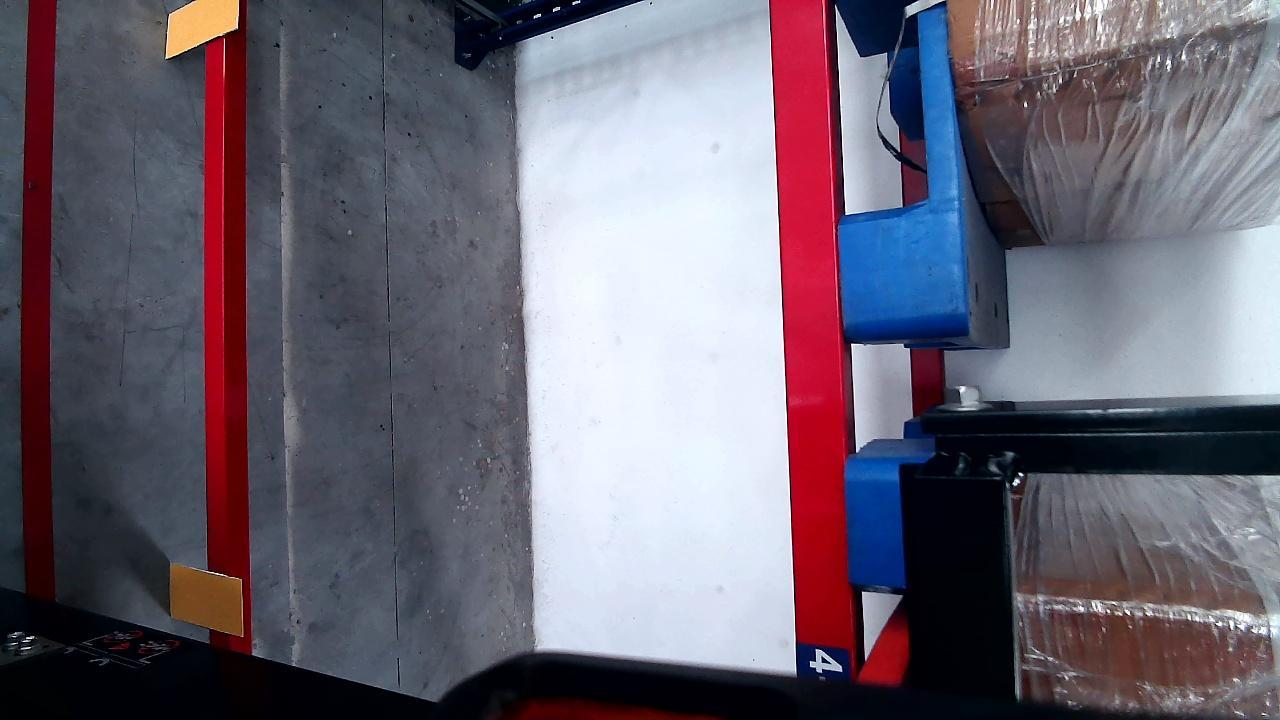red_line: (16, 0, 61, 594)
